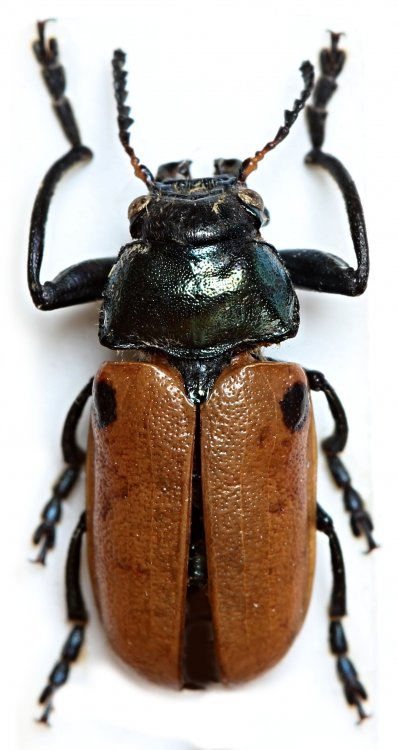Labidostomis_asiatica: (22, 9, 386, 734)
